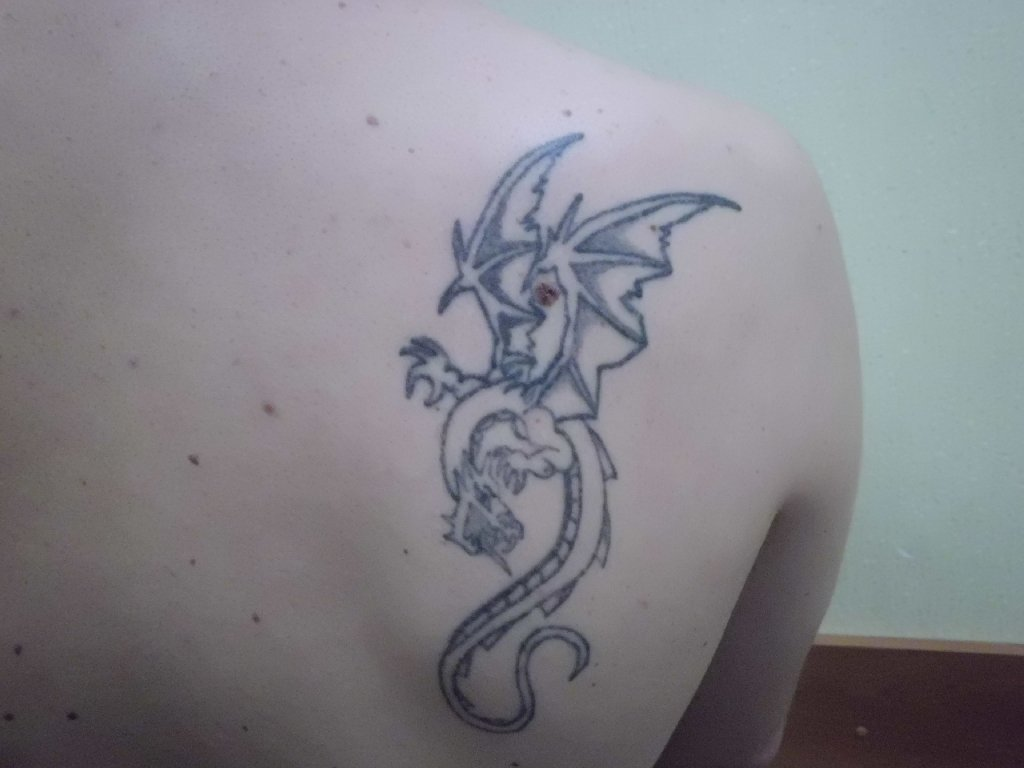tatu6_drakon: (368, 88, 771, 746)
